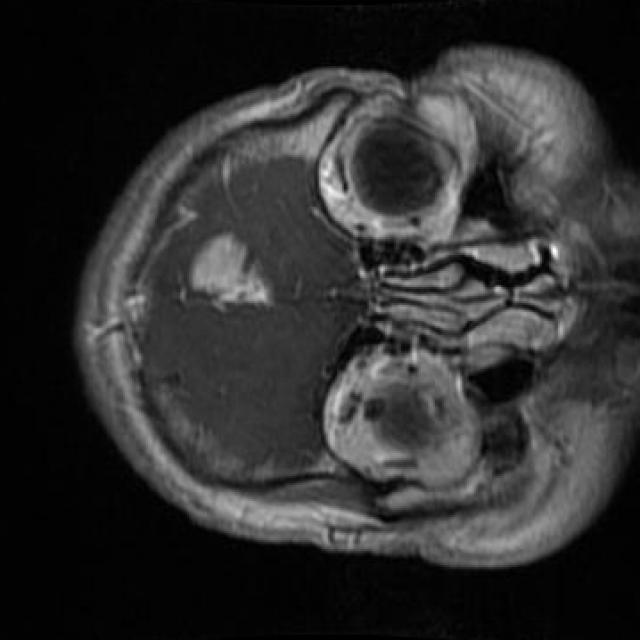glioma: (191, 234, 273, 305)
